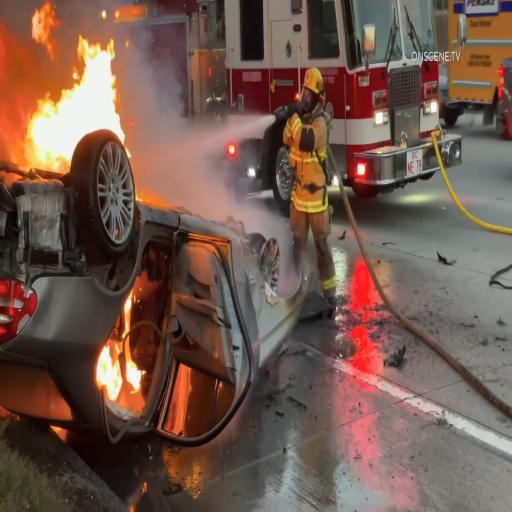fire: (22, 33, 134, 167), (97, 346, 148, 408), (30, 0, 61, 64)
